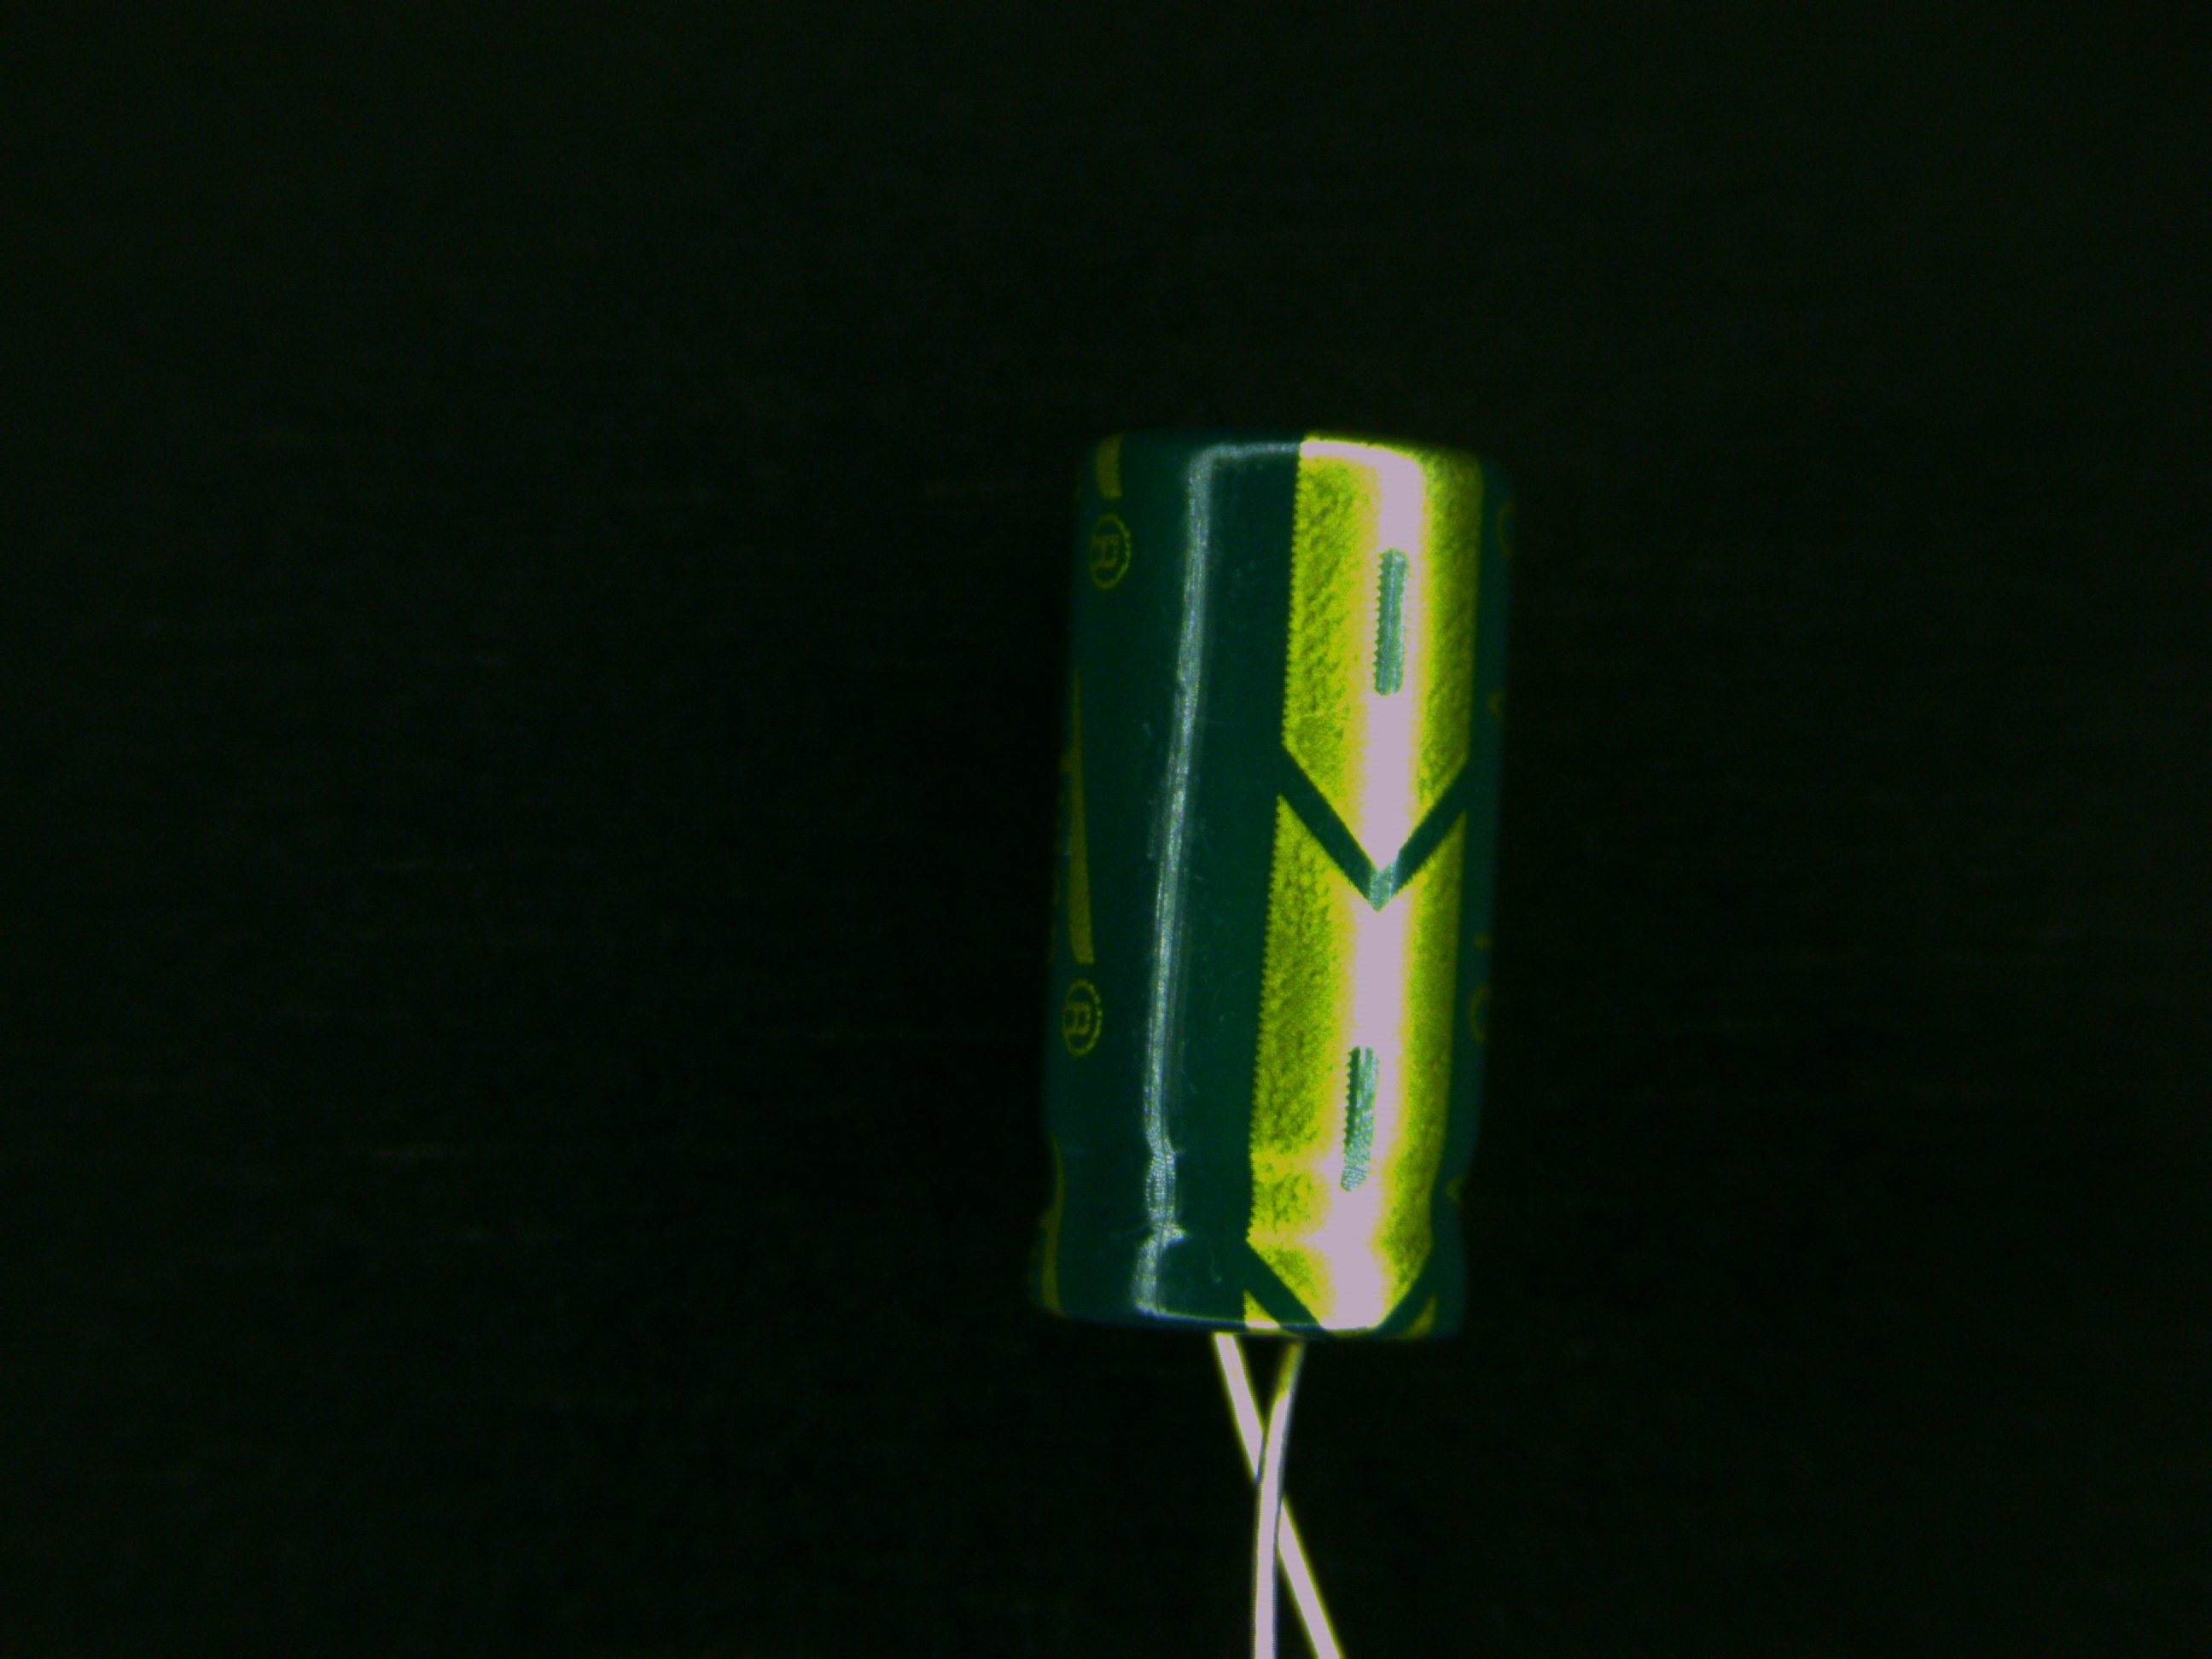c1: (1024, 427, 1521, 1429)
